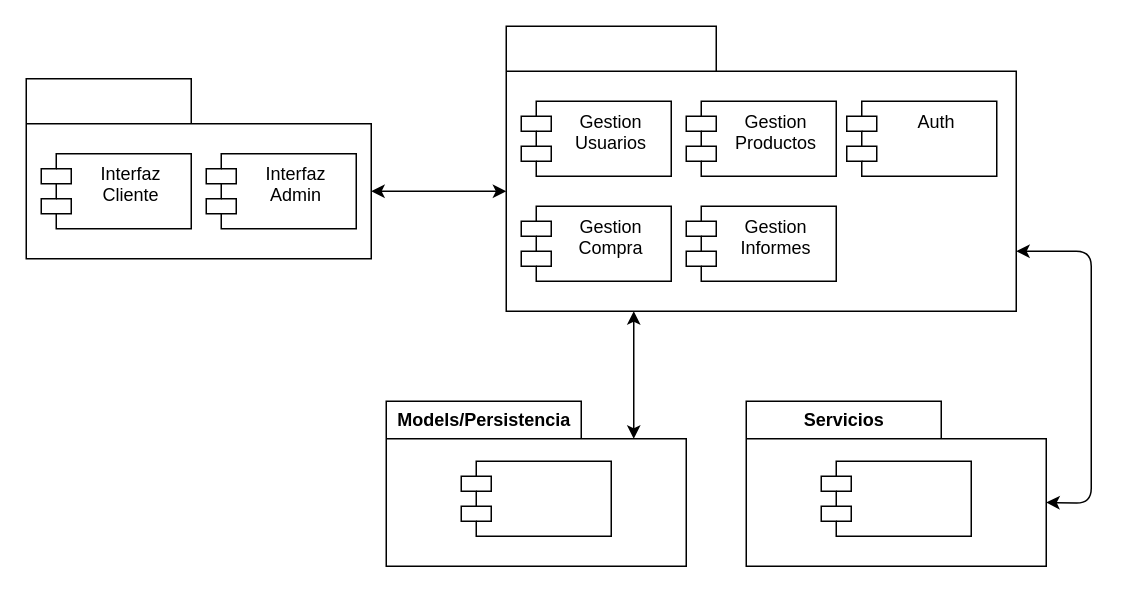
This 1131x593 diagram has some shape labels left out. Here are the shapes that lost their labels. From the top down, the box of each, then its label:
(25, 77, 371, 259): Vistas/Grafica
(505, 25, 1016, 311): Controladores/Logica
(460, 460, 611, 536): BD
(820, 460, 971, 536): API PAGOS
